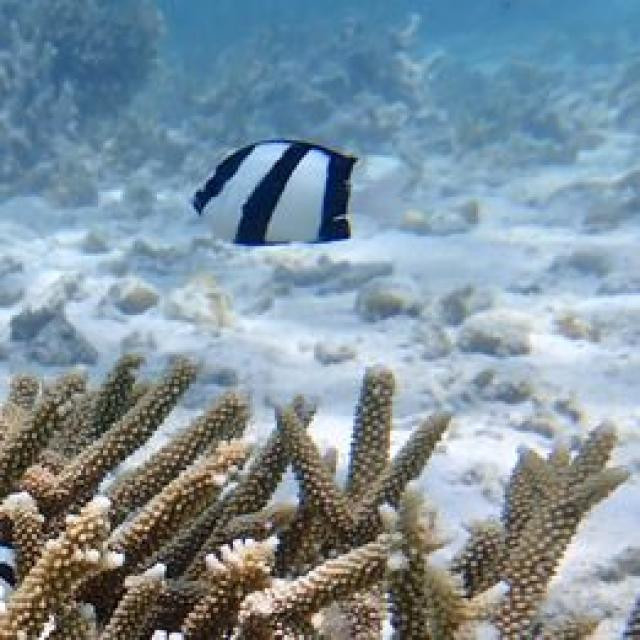ThreeStripedDamselfish: (191, 140, 400, 249)
